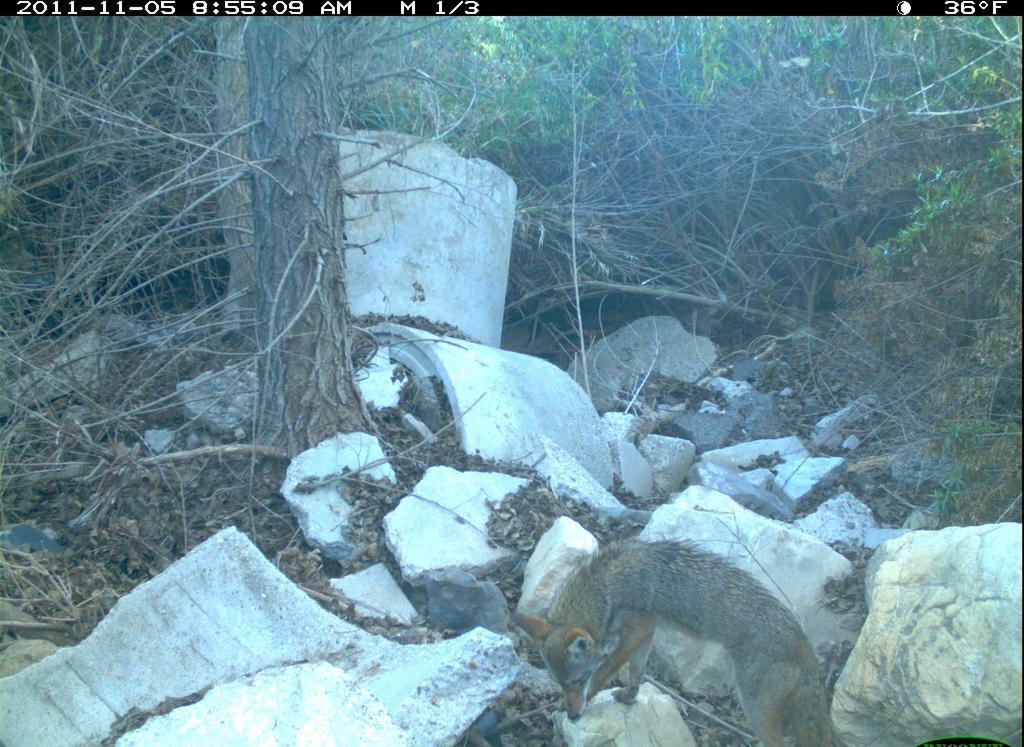coyote: (504, 528, 871, 744)
